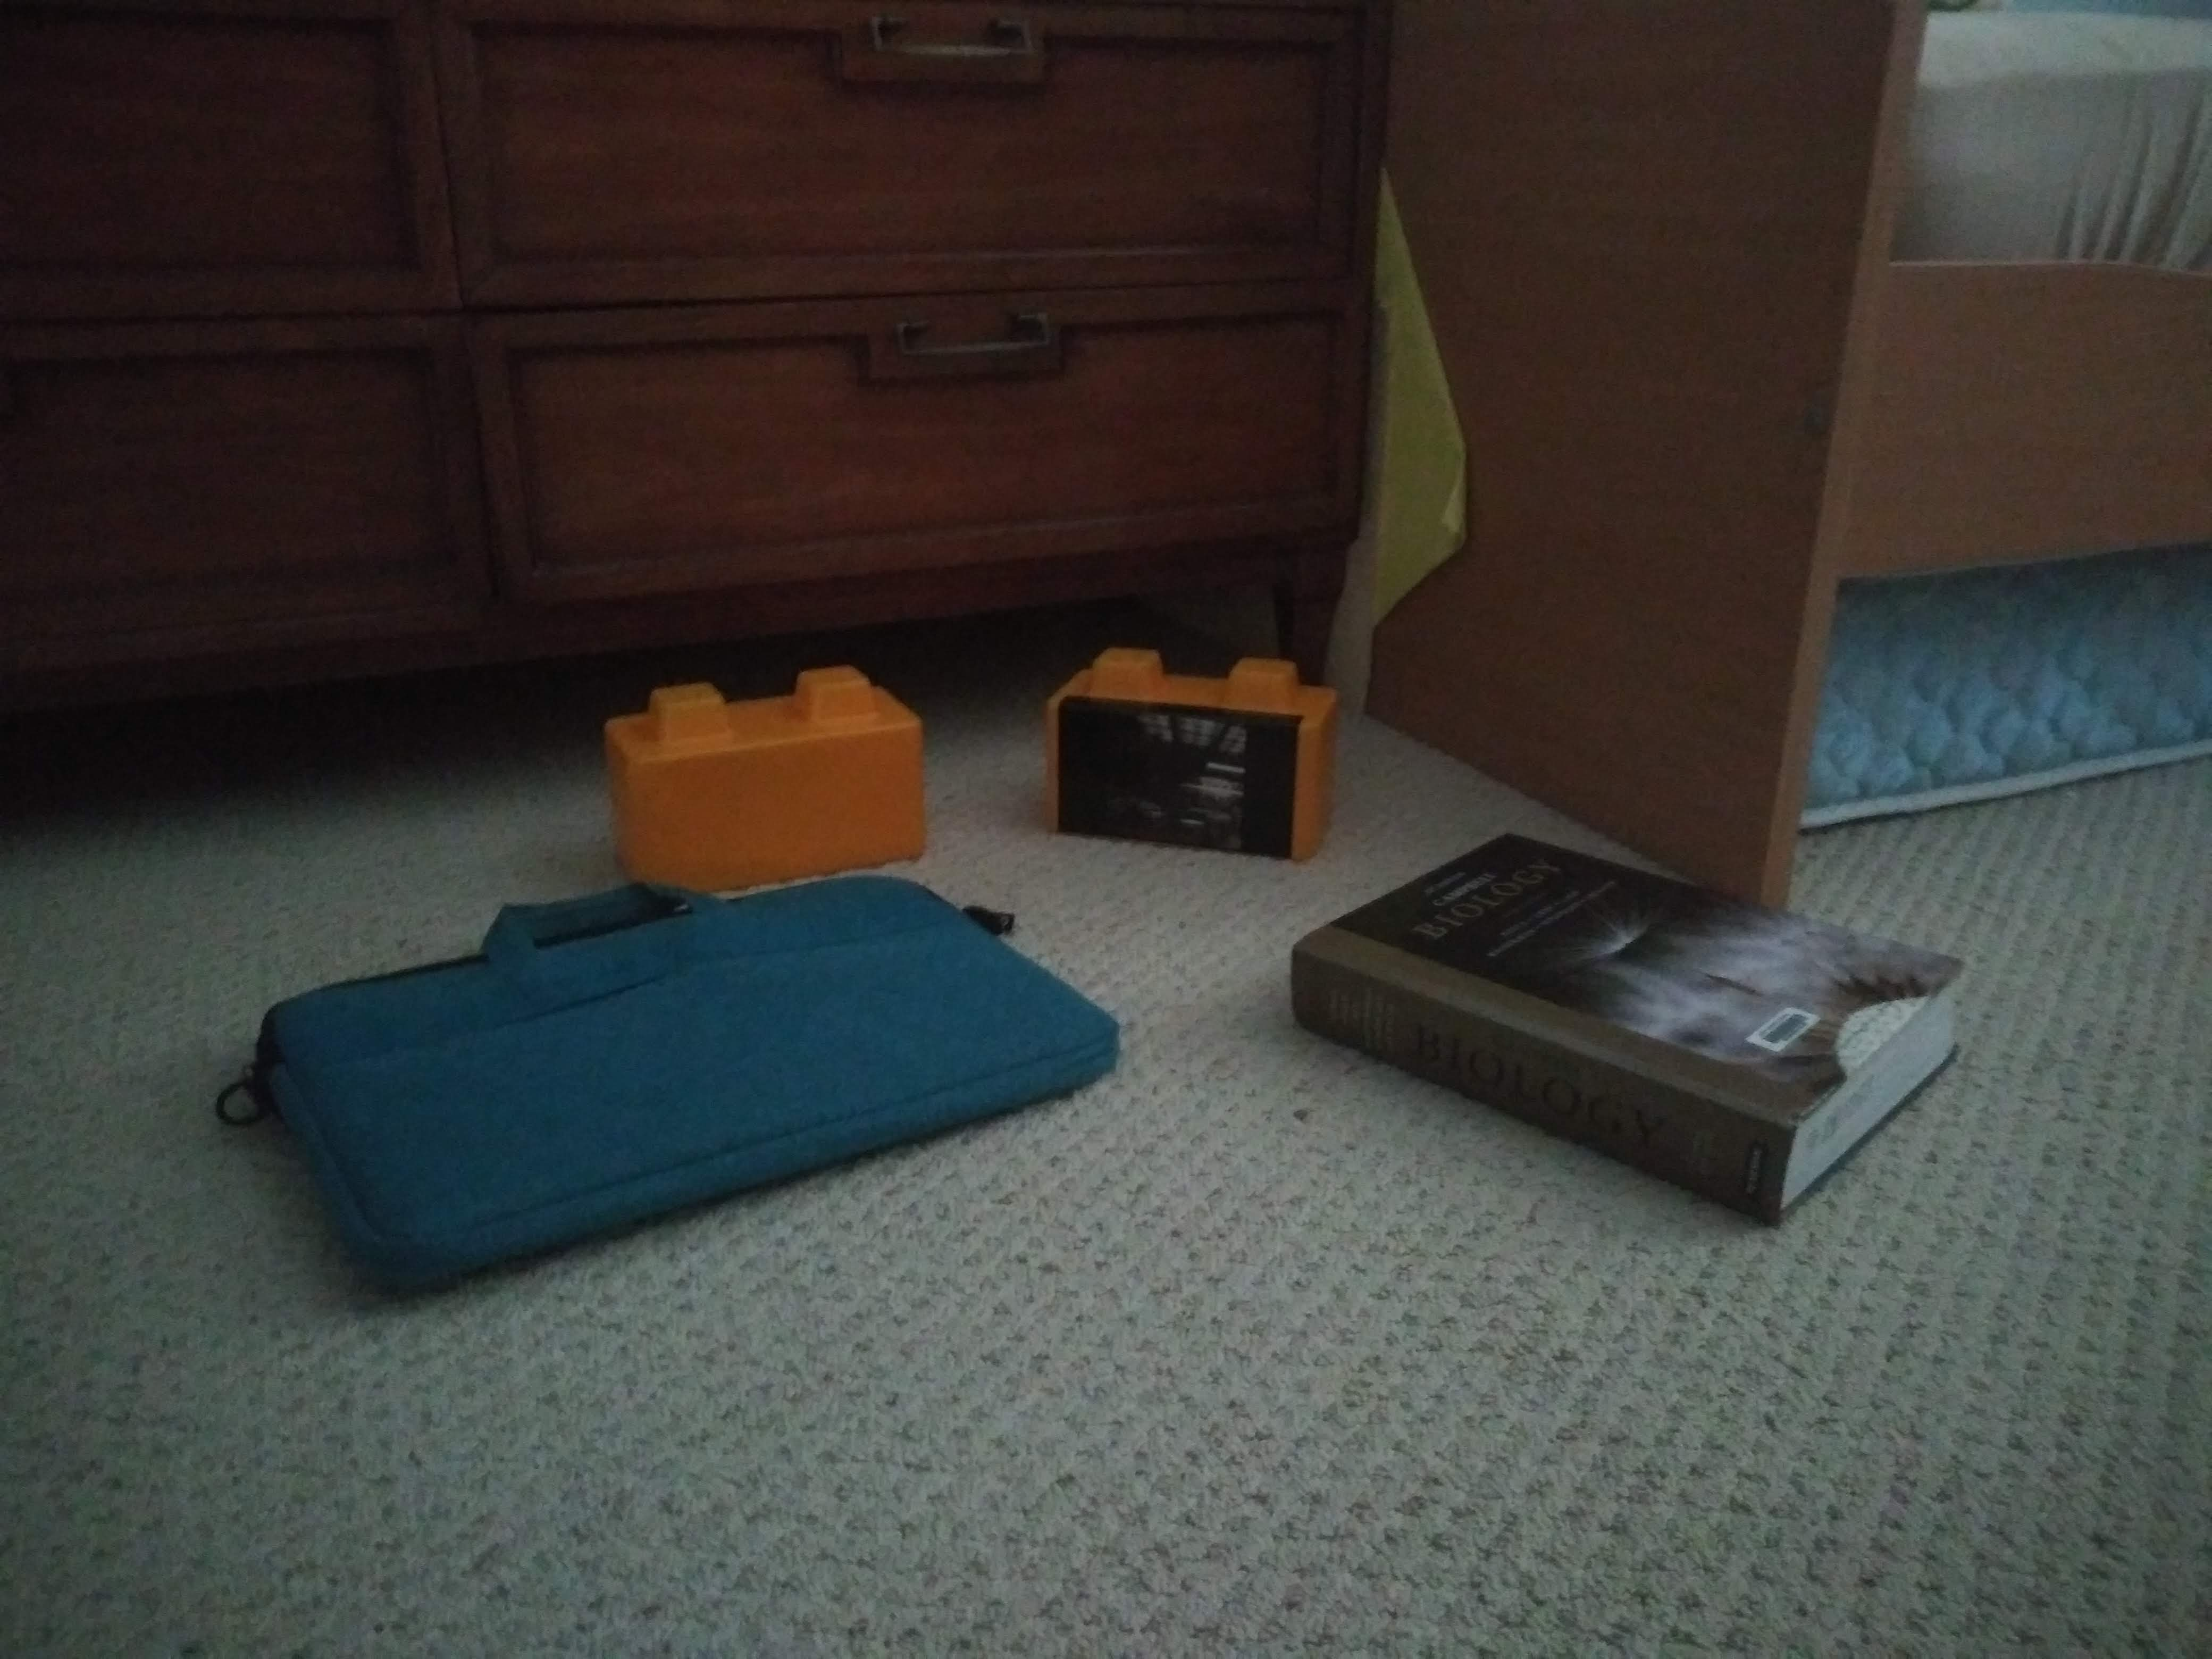skystone: (1045, 659, 1324, 859)
stone: (608, 687, 930, 884)
